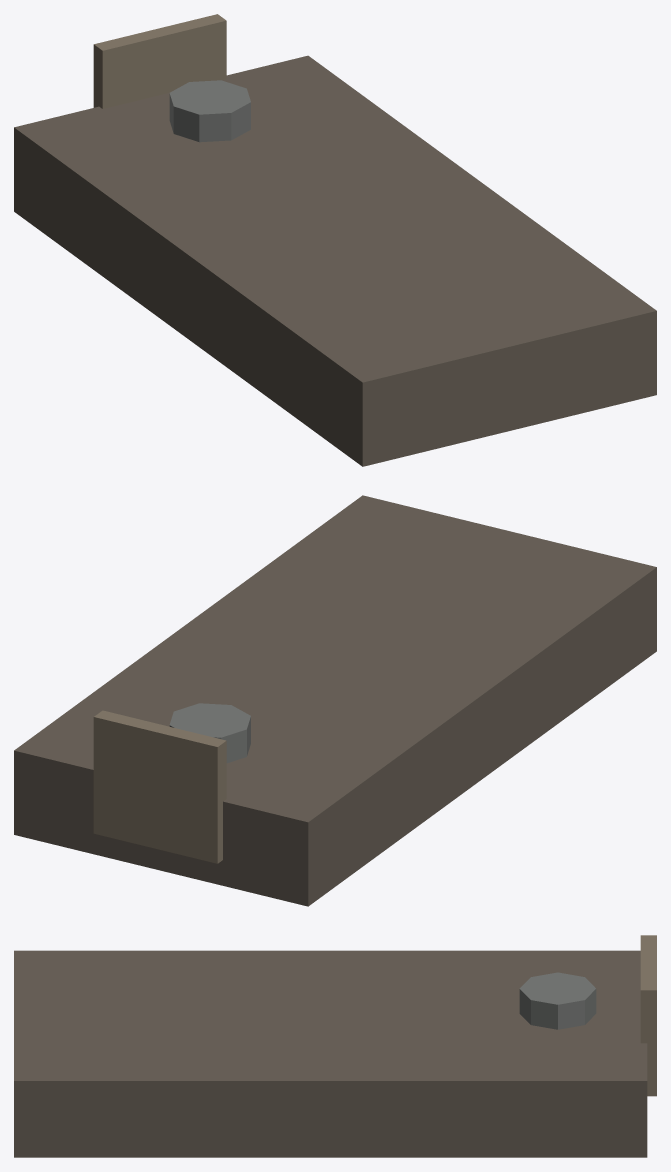
The model's file is grave_mound.glb.
3 views of the same model, one above another, from view 1: azimuth 30°, elevation 25°; view 2: azimuth 150°, elevation 25°; view 3: azimuth 270°, elevation 25° (orthographic). The views are drawn at different scales.
Visible parts, largest first — view 1: grave_mound; view 2: grave_mound; view 3: grave_mound.
Part boxes in pixels (left/top/right/bottom): grave_mound: left=14, top=14, right=656, bottom=466; grave_mound: left=14, top=495, right=656, bottom=906; grave_mound: left=14, top=935, right=656, bottom=1157.
Bounding box in the file's own units: 0.95 × 0.44 × 1.98.
